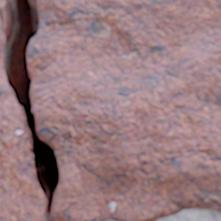broken_brick: (28, 0, 220, 220), (0, 67, 46, 220), (0, 2, 6, 65)
crack: (0, 0, 60, 220)
